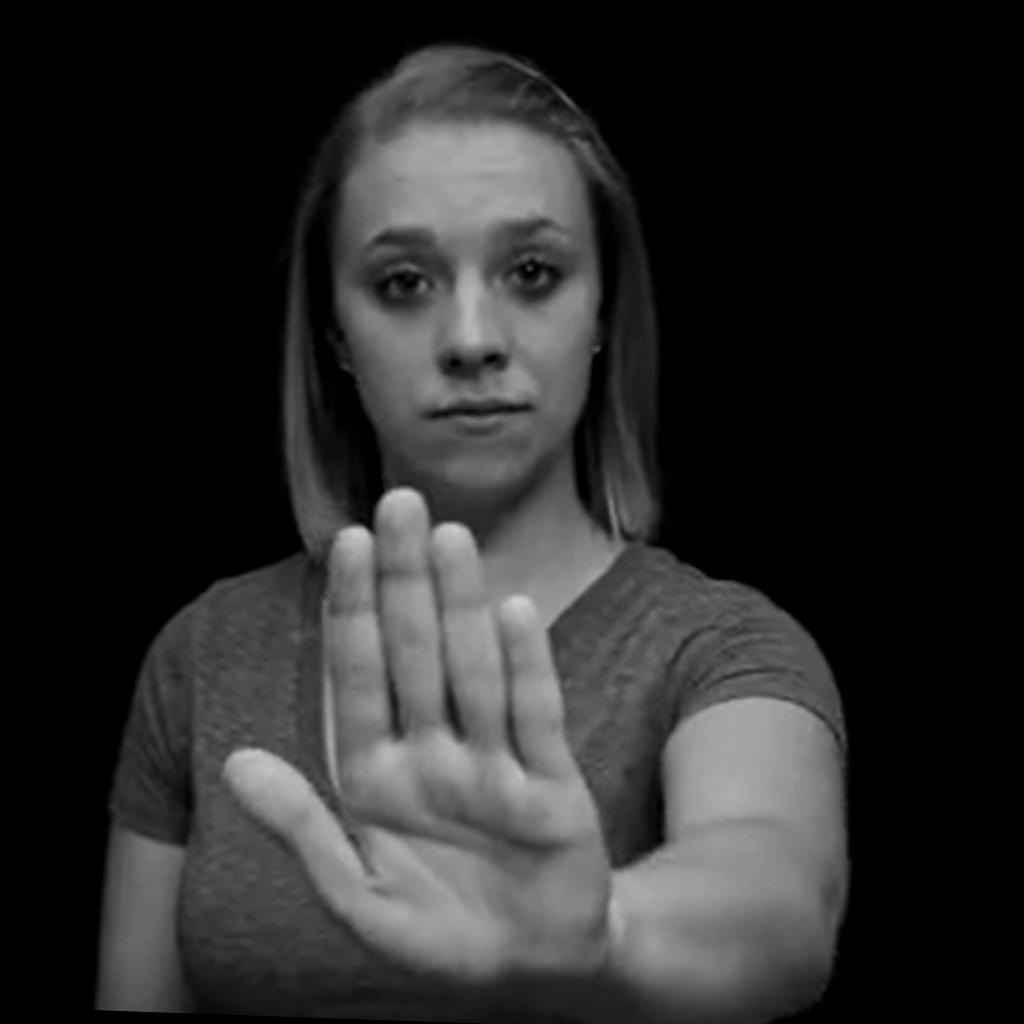your: (214, 481, 622, 991)
